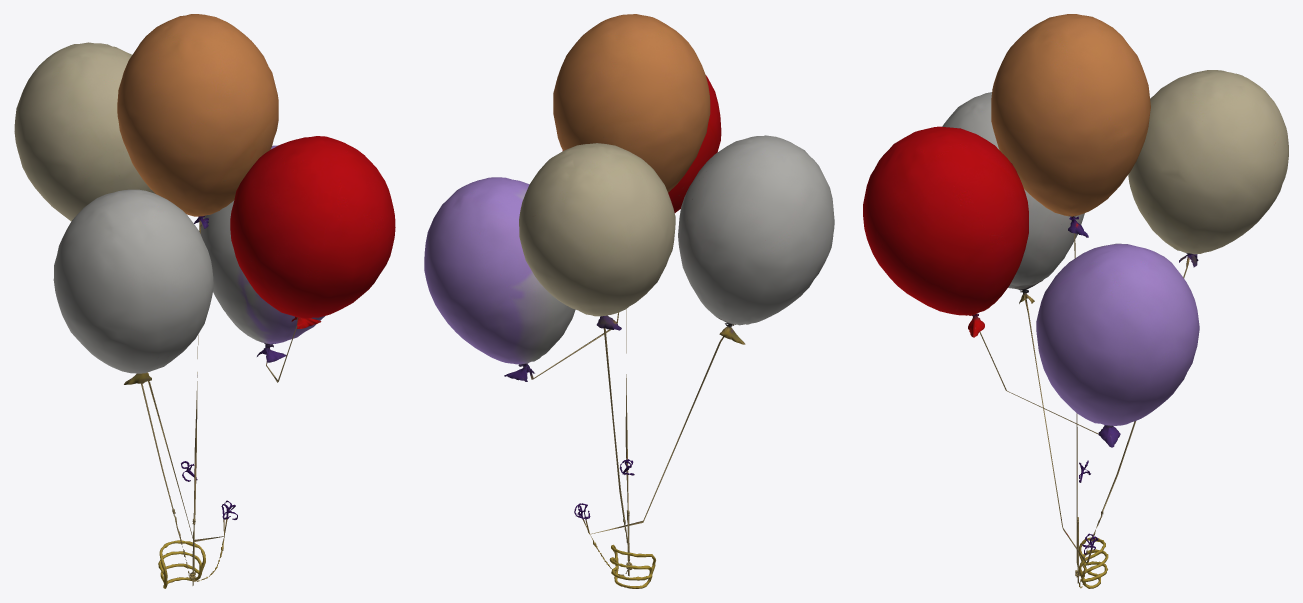
The model's file is royal-balloons.glb.
The picture shows the model from 3 angles, left to right: view 1: azimuth 30°, elevation 25°; view 2: azimuth 150°, elevation 25°; view 3: azimuth 270°, elevation 25°; orthographic projection. The views are drawn at different scales.
Visible parts, largest first — view 1: tripo_node_10ba9382-43ee-4640-90b0-09ae2297a676; view 2: tripo_node_10ba9382-43ee-4640-90b0-09ae2297a676; view 3: tripo_node_10ba9382-43ee-4640-90b0-09ae2297a676.
Boxes of the visible parts, x1,y1,x2,y2 form: tripo_node_10ba9382-43ee-4640-90b0-09ae2297a676: (14,14,395,588); tripo_node_10ba9382-43ee-4640-90b0-09ae2297a676: (424,14,834,588); tripo_node_10ba9382-43ee-4640-90b0-09ae2297a676: (863,14,1288,588).
Bounding box in the file's own units: 0.627 × 0.998 × 0.6816.
1 material, 1 textured.
